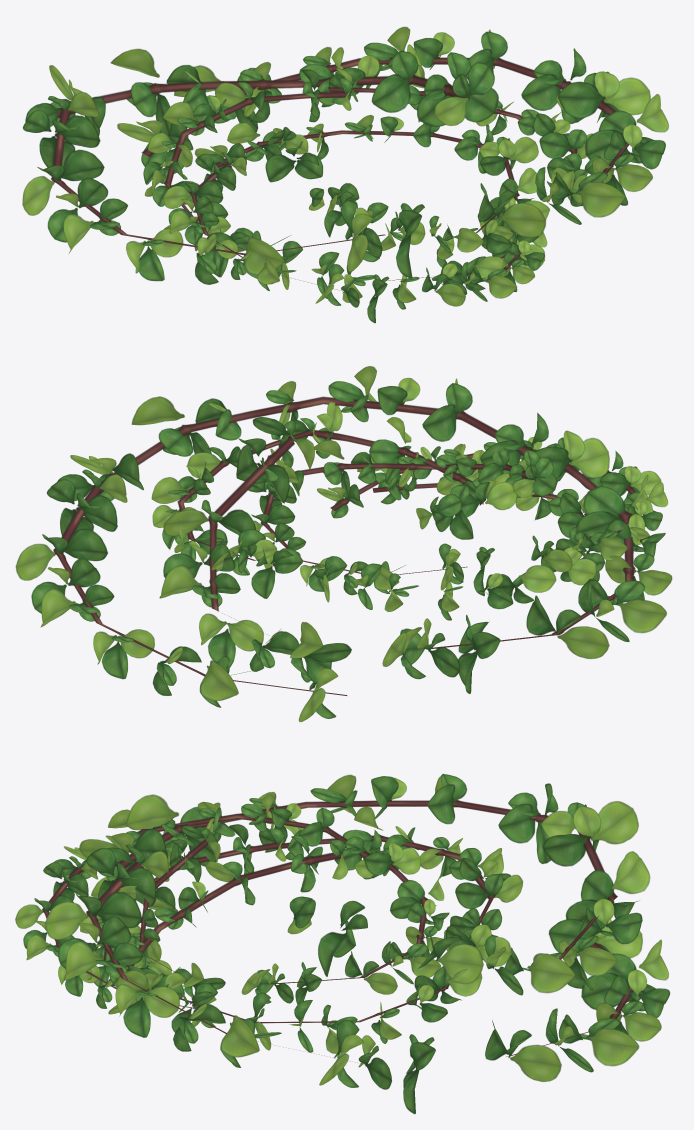
File: ivy.glb
3 views of the same model, one above another, from view 1: azimuth 30°, elevation 25°; view 2: azimuth 150°, elevation 25°; view 3: azimuth 270°, elevation 25° (orthographic). The views are drawn at different scales.
Parts seen in each view (by area): view 1: Plant01; view 2: Plant01; view 3: Plant01.
Part boxes in pixels (x1=…): Plant01: x1=22, y1=26, x2=668, y2=323; Plant01: x1=15, y1=366, x2=672, y2=721; Plant01: x1=15, y1=773, x2=670, y2=1114.
Size of the model in its own units: 0.6759 by 0.1844 by 0.6232.
1 material, 1 textured.
